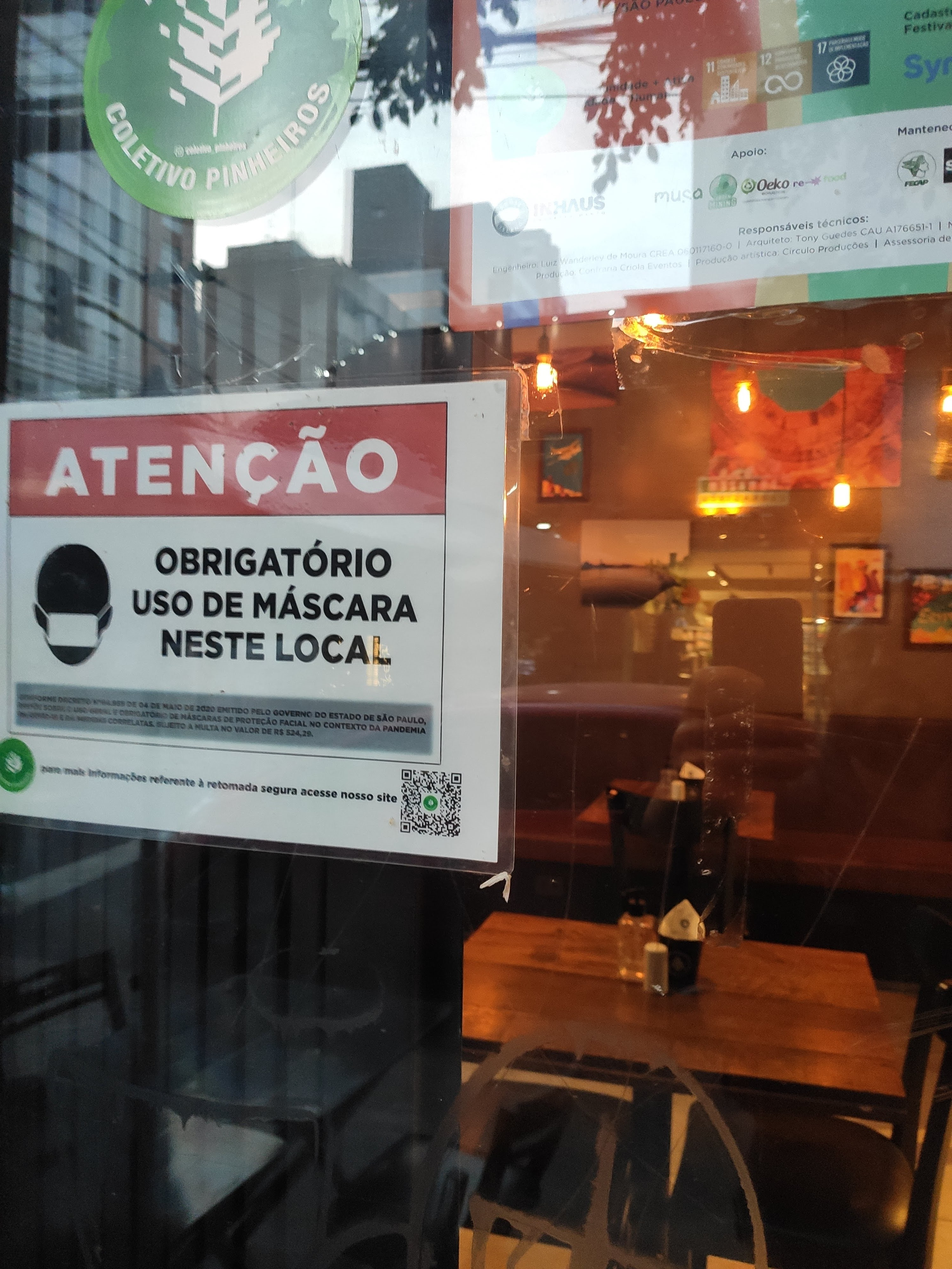QR-CODE: (400, 769, 461, 837)
